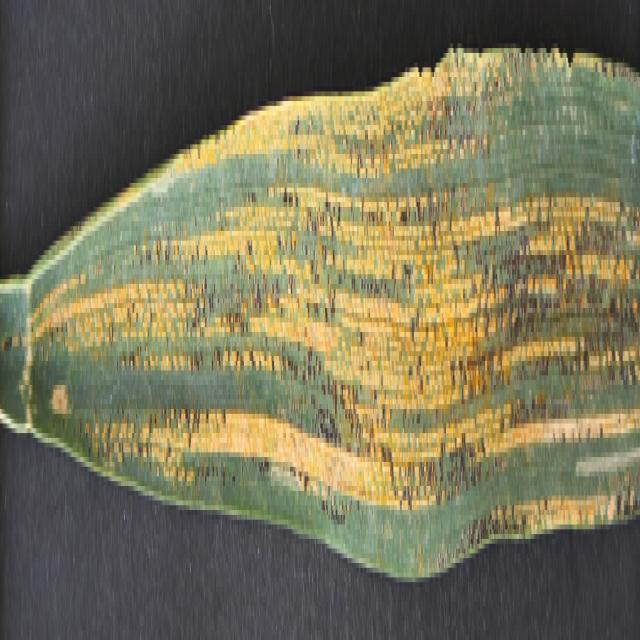leaf rust: (29, 39, 640, 587)
